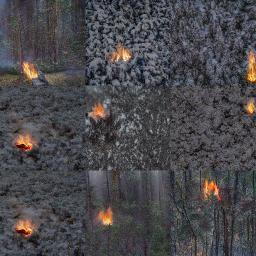Small fire: (18, 63, 42, 82), (201, 183, 225, 202), (243, 51, 256, 80), (92, 98, 108, 120), (106, 46, 130, 59), (20, 129, 32, 149), (11, 225, 34, 235)
